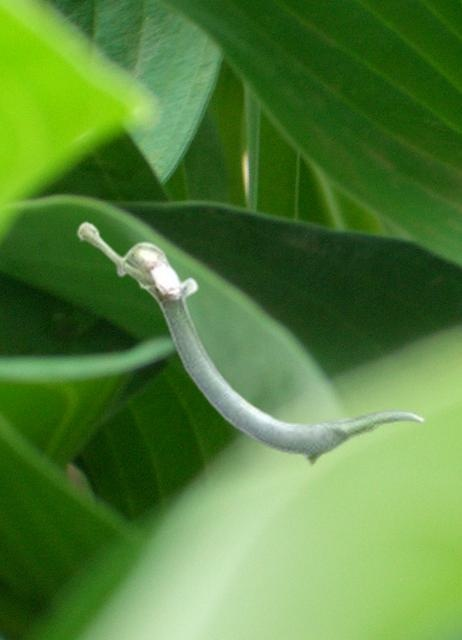french_bean: (76, 220, 425, 465)
